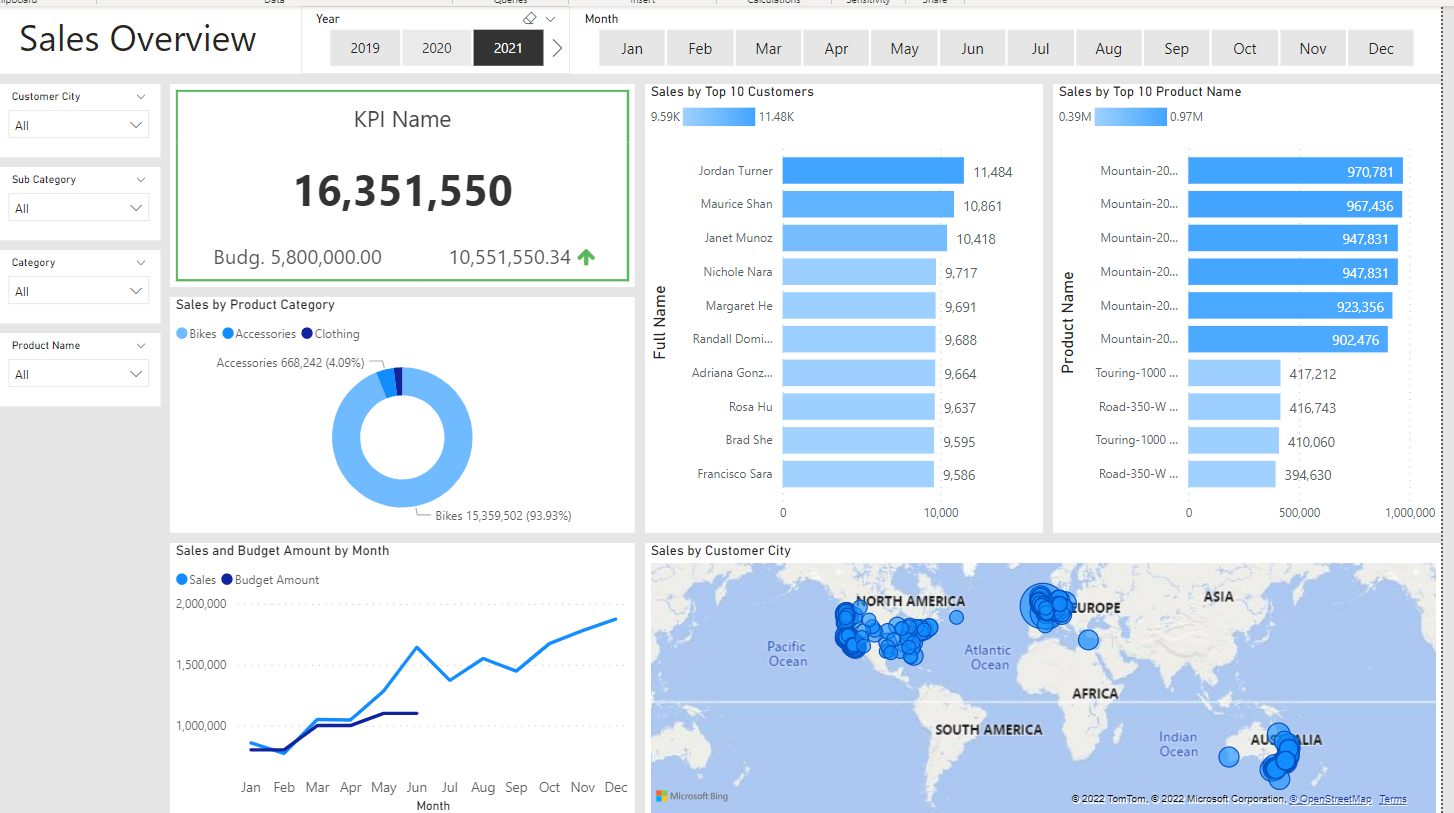

This screenshot's page, from the dashboard's own definition file:
{"tool":"powerbi","page":{"name":"Sales Overview","canvas":[1280,720],"ordinal":0},"visuals":[{"type":"textbox","box":[0,0,1280,60.3],"z":0},{"type":"slicer","fields":{"Values":["DIM_Customers.Customer City"]},"box":[0,69.2,144.5,64.7],"z":1000},{"type":"slicer","fields":{"Values":["DIM_Products.Sub Category"]},"box":[0,142.8,144.5,64.7],"z":2000},{"type":"slicer","fields":{"Values":["DIM_Products.Product Category"]},"box":[0,216.4,144.5,64.7],"z":3000},{"type":"slicer","fields":{"Values":["DIM_Products.Product Name"]},"box":[0,290,144.5,64.7],"z":4000},{"type":"slicer","fields":{"Values":["DIM_Calendar.Year"]},"box":[269.6,0,238.5,60.3],"z":5000},{"type":"slicer","fields":{"Values":["DIM_Calendar.MonthShort"]},"box":[508.1,0,772.3,60.3],"z":6000},{"type":"BBED0A4D4D8D44CE93CF2DAFADEE466C","fields":{"actual":["Key Measures.Sales"],"target1":["Key Measures.Budget Amount"],"target2":["Key Measures.Sales - Budget"]},"box":[153.4,69.2,412.3,180],"z":7000},{"type":"donutChart","fields":{"Category":["DIM_Products.Product Category"],"Y":["Key Measures.Sales"]},"box":[153.4,258,412.3,209.3],"z":8000},{"type":"lineChart","fields":{"Y":["Key Measures.Sales","Key Measures.Budget Amount"],"Category":["DIM_Calendar.MonthShort"]},"box":[153.4,476.2,412.3,243.8],"z":9000},{"type":"barChart","title":"Sales by Top 10 Customers","fields":{"Y":["Key Measures.Sales"],"Category":["DIM_Customers.Full Name"]},"box":[574.6,69.2,352.9,398.1],"z":10000},{"type":"barChart","title":"Sales by Top 10 Product Name","fields":{"Y":["Key Measures.Sales"],"Category":["DIM_Products.Product Name"]},"box":[936.4,69.2,344,398.1],"z":11000},{"type":"map","fields":{"Size":["Key Measures.Sales"],"Category":["DIM_Customers.Customer City"]},"box":[574.6,476.2,705.8,243.8],"z":12000}]}

Visuals, with their boxes on the page's 1280x720 design canvas (x1, y1, x2, y2). These are canvas units, not pixel positions in the 1454x813 screenshot, which may show the page scaled, cropped or inside an application window:
textbox: l=0, t=0, r=1280, b=60
slicer - DIM_Customers.Customer City: l=0, t=69, r=144, b=134
slicer - DIM_Products.Sub Category: l=0, t=143, r=144, b=208
slicer - DIM_Products.Product Category: l=0, t=216, r=144, b=281
slicer - DIM_Products.Product Name: l=0, t=290, r=144, b=355
slicer - DIM_Calendar.Year: l=270, t=0, r=508, b=60
slicer - DIM_Calendar.MonthShort: l=508, t=0, r=1280, b=60
BBED0A4D4D8D44CE93CF2DAFADEE466C - Key Measures.Sales x Key Measures.Budget Amount: l=153, t=69, r=566, b=249
donutChart - DIM_Products.Product Category x Key Measures.Sales: l=153, t=258, r=566, b=467
lineChart - Key Measures.Sales x Key Measures.Budget Amount: l=153, t=476, r=566, b=720
"Sales by Top 10 Customers" barChart: l=575, t=69, r=928, b=467
"Sales by Top 10 Product Name" barChart: l=936, t=69, r=1280, b=467
map - Key Measures.Sales x DIM_Customers.Customer City: l=575, t=476, r=1280, b=720
